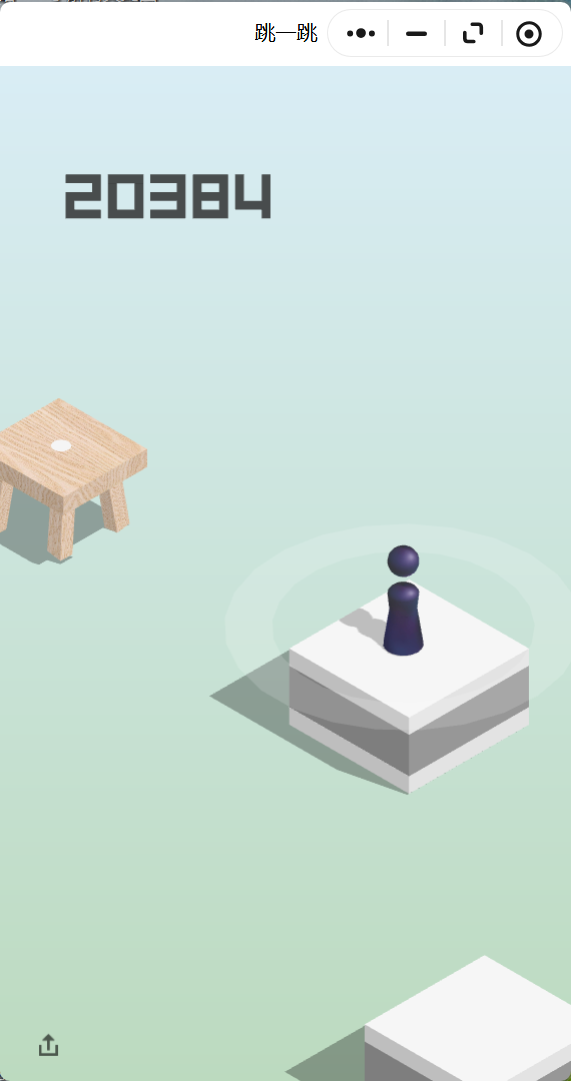piece: (388, 545, 419, 652)
target: (1, 399, 147, 496)
